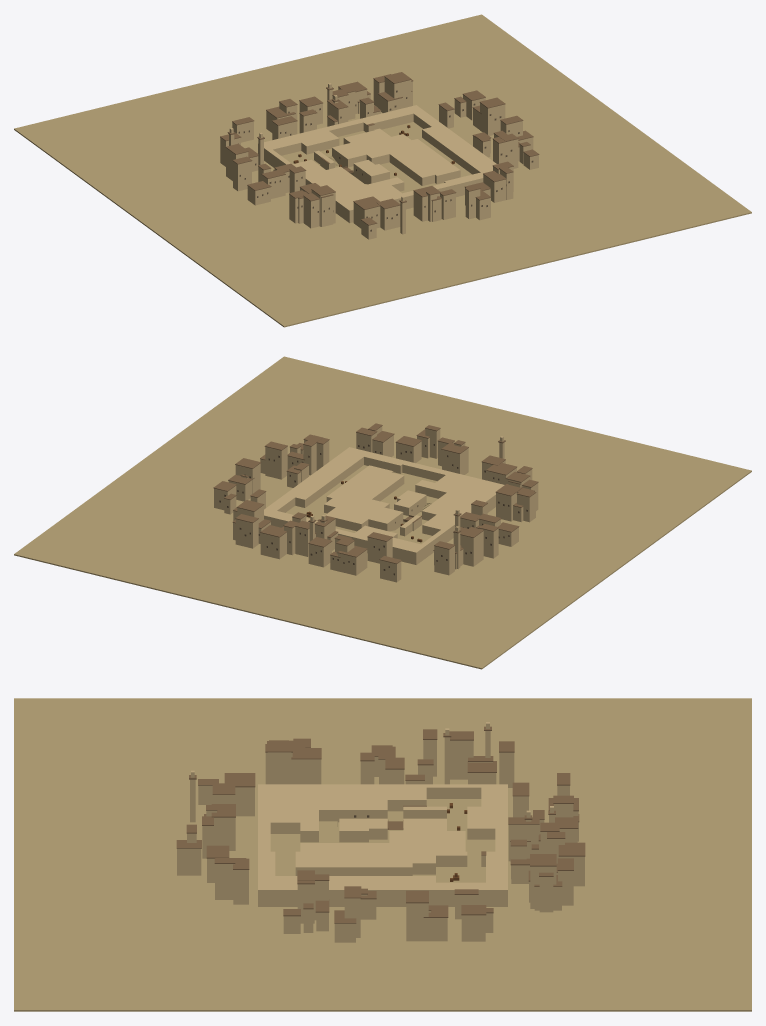
Rendered from de_aq_dust.glb.
3 renders of one model, top to bottom at view 1: azimuth 30°, elevation 25°; view 2: azimuth 150°, elevation 25°; view 3: azimuth 270°, elevation 25°, orthographic. The views are drawn at different scales.
Visible parts, largest first — view 1: skyline, de_aq_dust; view 2: skyline, de_aq_dust; view 3: skyline, de_aq_dust.
Part boxes in pixels (x1,y1,x2,y2): skyline: [14, 14, 751, 327]; de_aq_dust: [258, 105, 496, 222]; skyline: [14, 356, 751, 669]; de_aq_dust: [264, 447, 504, 564]; skyline: [14, 698, 751, 1011]; de_aq_dust: [258, 784, 507, 906].
Bounding box in the file's own units: 15120 × 1408 × 15120.
